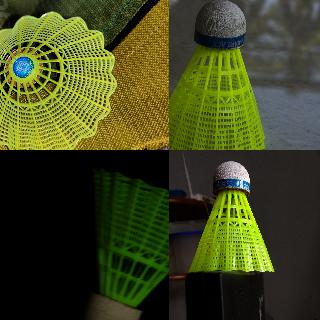shuttlecock: (0, 11, 117, 149), (169, 0, 265, 149), (82, 168, 168, 319), (187, 161, 275, 273)
